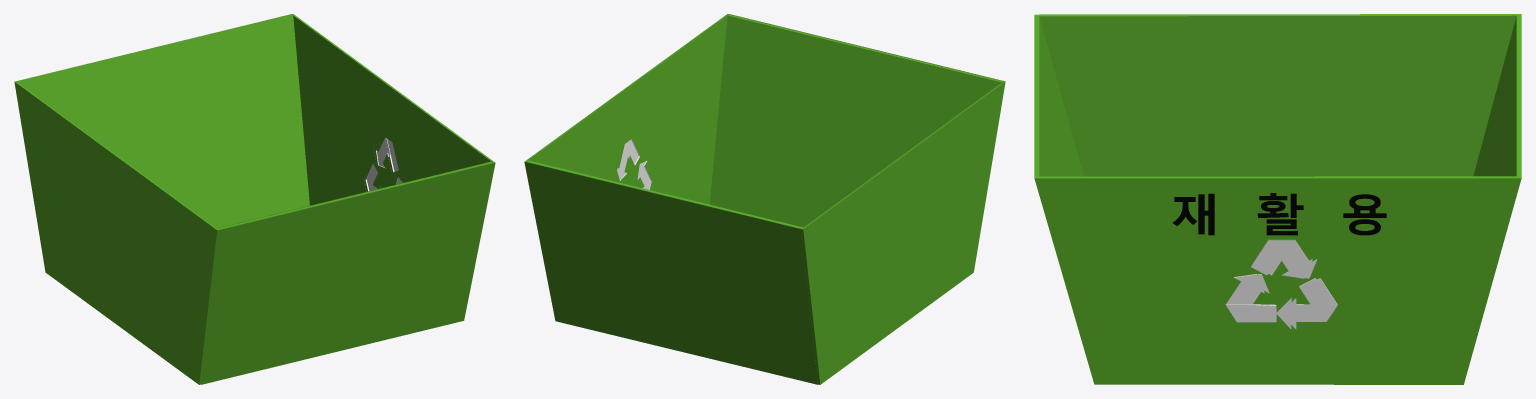
The model's file is Dustbin2.fbx.
3 renders of one model, left to right at view 1: azimuth 30°, elevation 25°; view 2: azimuth 150°, elevation 25°; view 3: azimuth 270°, elevation 25°, orthographic. The views are drawn at different scales.
Visible parts, largest first — view 1: Plane; view 2: Plane; view 3: Plane, Text.
Part boxes in pixels (left/top/right/bottom): Plane: left=14, top=14, right=495, bottom=384; Plane: left=524, top=14, right=1005, bottom=384; Plane: left=1034, top=14, right=1521, bottom=384; Text: left=1172, top=193, right=1386, bottom=235.
Size of the model in its own units: 152 by 91.77 by 192.
